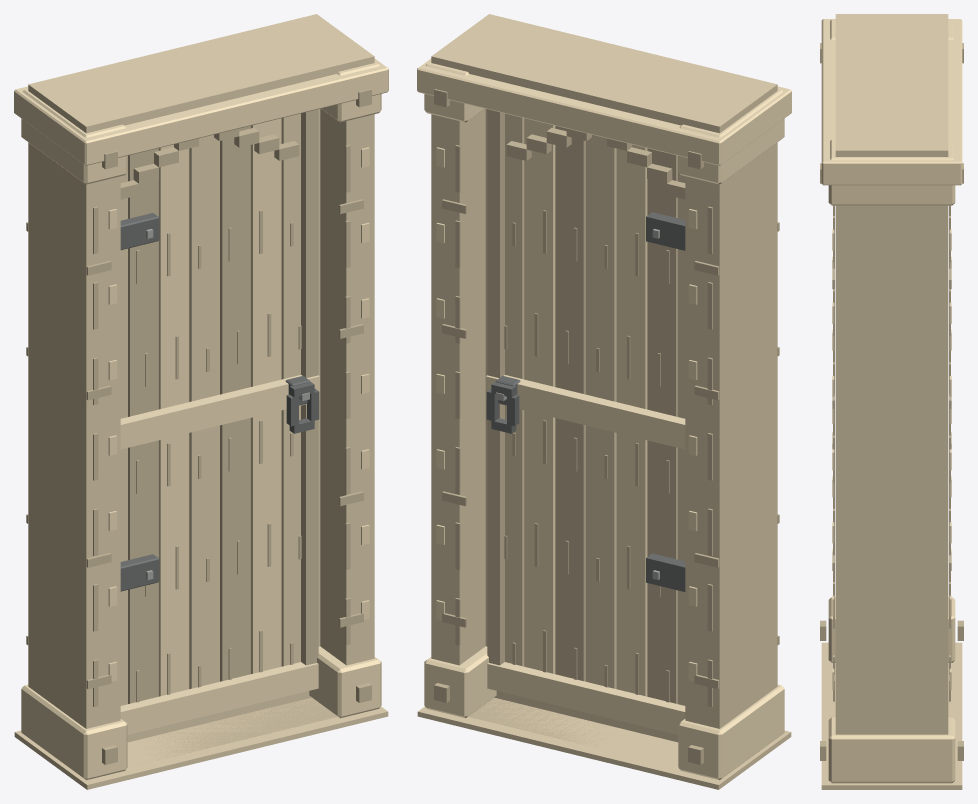
The model's file is birch_door.gltf.
3 views of the same model, side by side, from view 1: azimuth 30°, elevation 25°; view 2: azimuth 150°, elevation 25°; view 3: azimuth 270°, elevation 25° (orthographic). The views are drawn at different scales.
Bounding box in the file's own units: 0.97 × 2 × 0.41.
